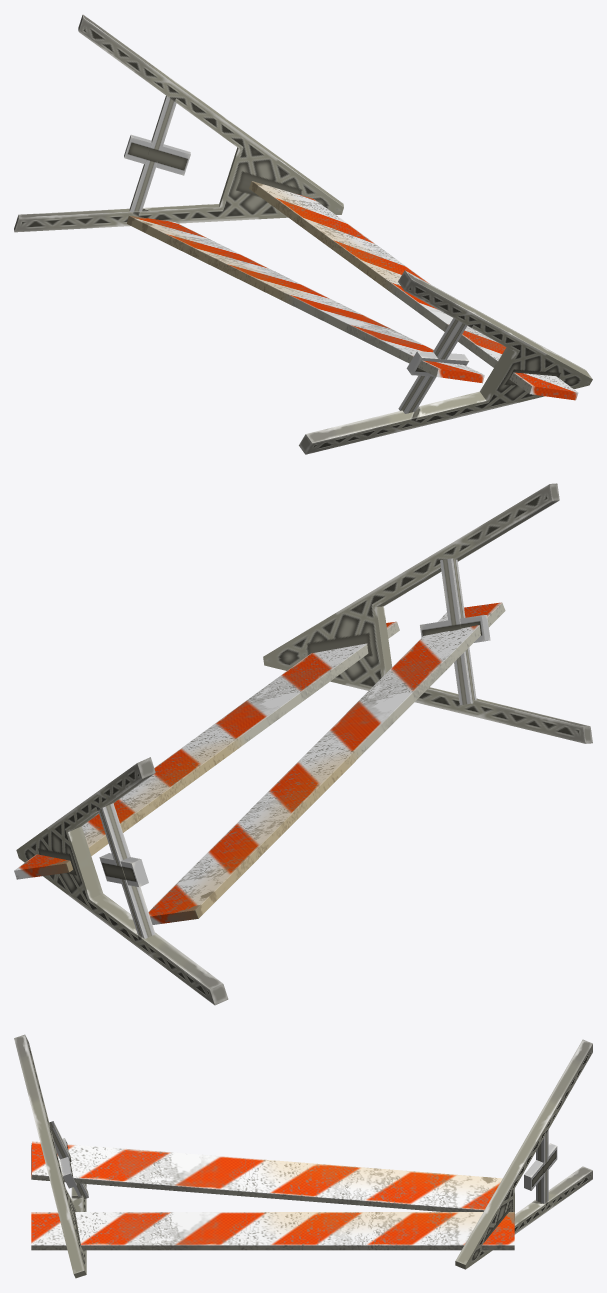
The model's file is trafficBarricade03_B.fbx.
3 views of the same model, one above another, from view 1: azimuth 30°, elevation 25°; view 2: azimuth 150°, elevation 25°; view 3: azimuth 270°, elevation 25° (orthographic). The views are drawn at different scales.
Parts seen in each view (by area): view 1: trafficBarricade03_B; view 2: trafficBarricade03_B; view 3: trafficBarricade03_B.
Boxes of the visible parts, <box> form: trafficBarricade03_B: <box>14,14,592,454</box>; trafficBarricade03_B: <box>14,483,592,1005</box>; trafficBarricade03_B: <box>14,1034,592,1278</box>.
Bounding box in the file's own units: 116 × 77.35 × 246.
